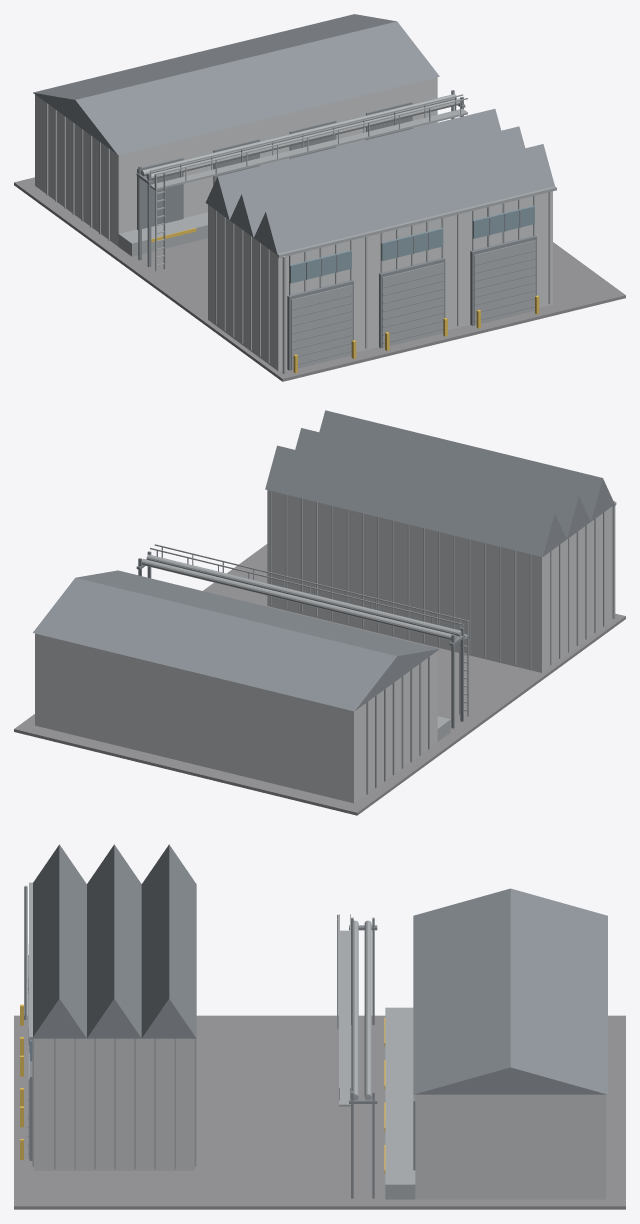
File: industrial_3x4_b.glb
3 renders of one model, top to bottom at view 1: azimuth 30°, elevation 25°; view 2: azimuth 150°, elevation 25°; view 3: azimuth 270°, elevation 25°, orthographic. The views are drawn at different scales.
Parts seen in each view (by area): view 1: industrial_3x4_b_yard; view 2: industrial_3x4_b_yard; view 3: industrial_3x4_b_yard.
Part boxes in pixels (x1,y1,x2,y2): industrial_3x4_b_yard: (14,14,625,381); industrial_3x4_b_yard: (14,410,625,815); industrial_3x4_b_yard: (14,844,625,1209).
Bounding box in the file's own units: 22.5 × 9.7 × 30.5.
